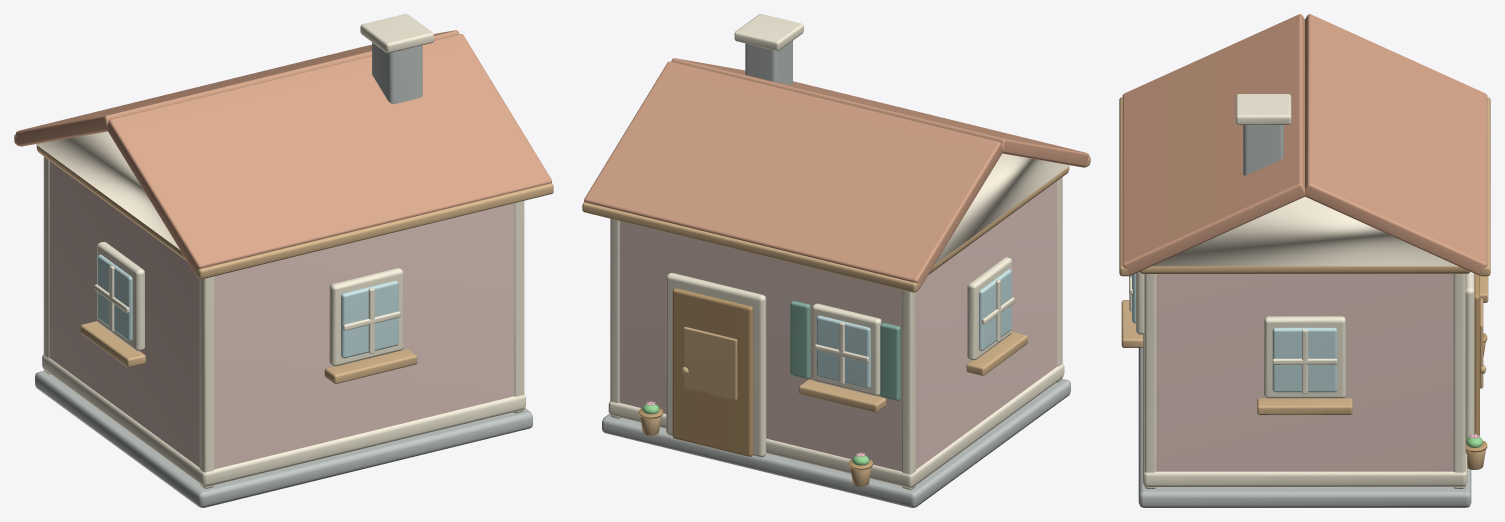
File: cottage_1.glb
3 views of the same model, side by side, from view 1: azimuth 30°, elevation 25°; view 2: azimuth 150°, elevation 25°; view 3: azimuth 270°, elevation 25° (orthographic). The views are drawn at different scales.
Size of the model in its own units: 3.62 by 3.58 by 3.26.
